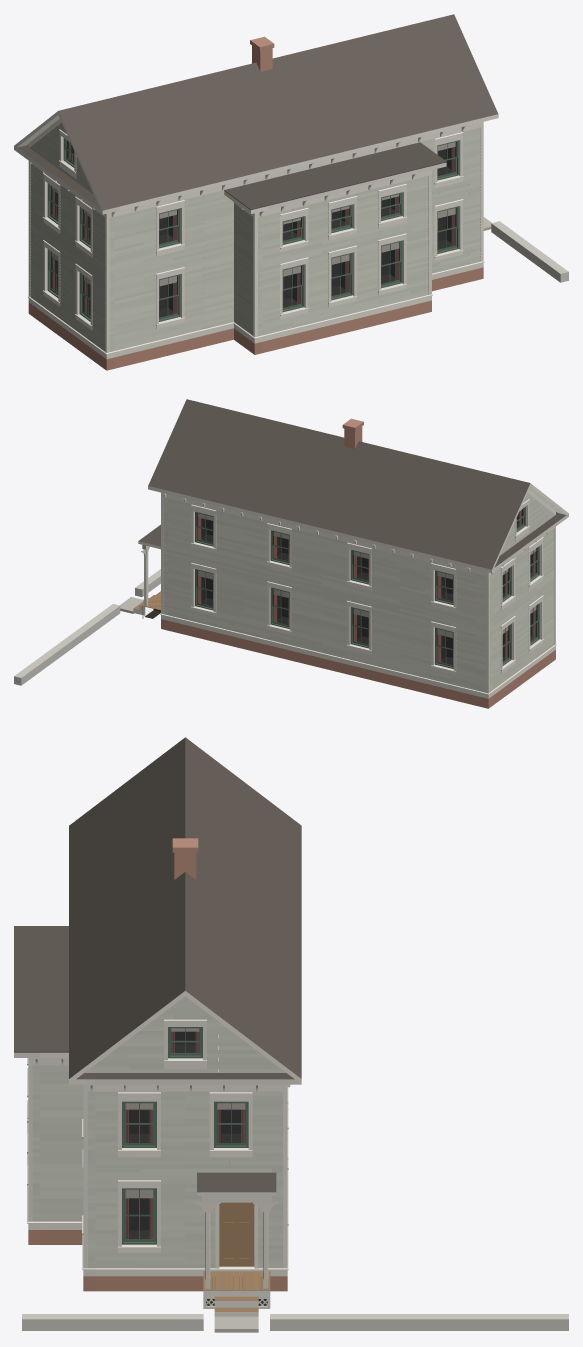
Rendered from house_1601_prairie__as_mapped_1904.glb.
The picture shows the model from 3 angles, top to bottom: view 1: azimuth 30°, elevation 25°; view 2: azimuth 150°, elevation 25°; view 3: azimuth 270°, elevation 25°; orthographic projection. The views are drawn at different scales.
Parts seen in each view (by area): view 1: house_1601_prairie__as_mapped_1904; view 2: house_1601_prairie__as_mapped_1904; view 3: house_1601_prairie__as_mapped_1904.
Part boxes in pixels (left/top/right/bottom): house_1601_prairie__as_mapped_1904: left=14, top=14, right=568, bottom=370; house_1601_prairie__as_mapped_1904: left=14, top=399, right=568, bottom=708; house_1601_prairie__as_mapped_1904: left=14, top=737, right=568, bottom=1332.
Bounding box in the file's own units: 18.51 × 10.02 × 15.12.
